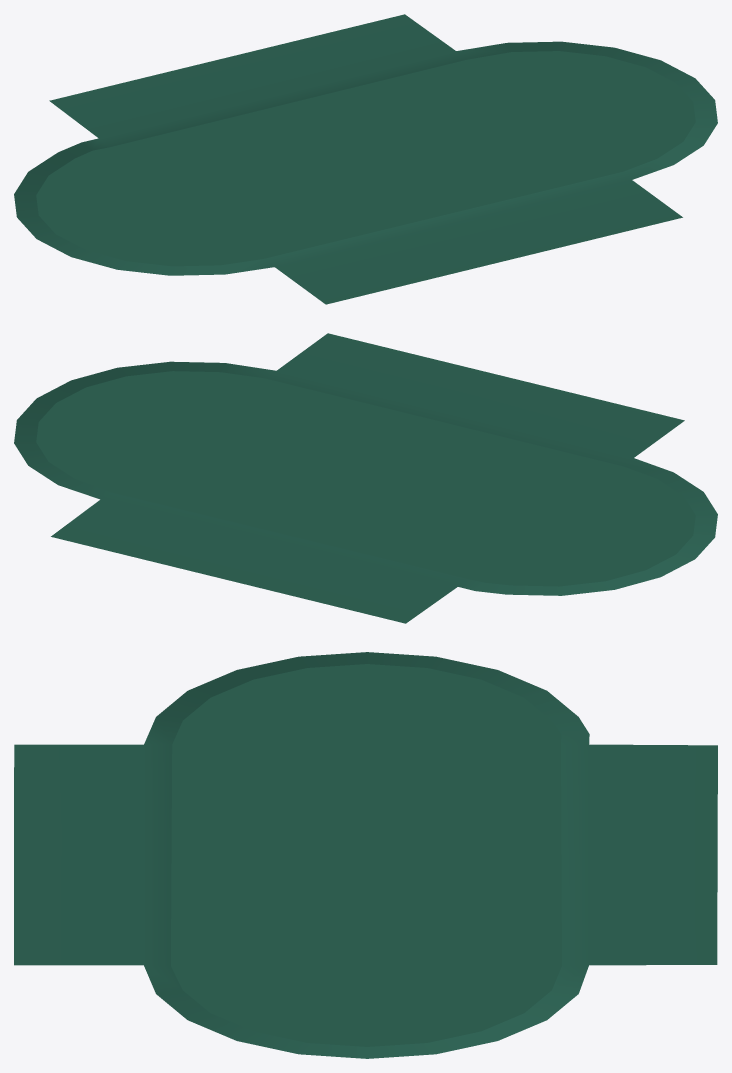
Rendered from SR floor.fbx.
The picture shows the model from 3 angles, top to bottom: view 1: azimuth 30°, elevation 25°; view 2: azimuth 150°, elevation 25°; view 3: azimuth 270°, elevation 25°; orthographic projection. The views are drawn at different scales.
Parts seen in each view (by area): view 1: SR_floor; view 2: SR_floor; view 3: SR_floor.
Boxes of the visible parts, bbox=[...] form: SR_floor: bbox=[14, 14, 717, 304]; SR_floor: bbox=[14, 333, 717, 623]; SR_floor: bbox=[14, 652, 717, 1058].
Bounding box in the file's own units: 2121 × 2.14 × 1551.
